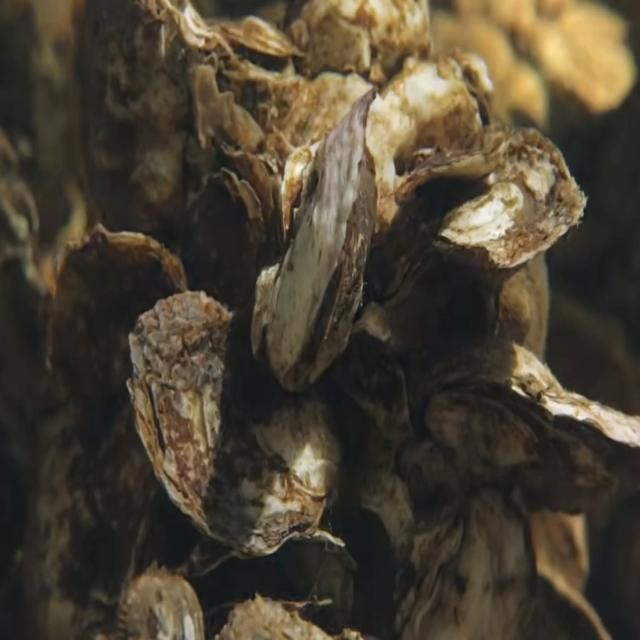Oyster-Closed: (42, 221, 193, 640), (380, 126, 588, 333), (410, 342, 640, 522), (248, 85, 380, 394), (389, 485, 541, 640)
Oyster-Indeterminate: (126, 287, 347, 557), (86, 0, 226, 250), (185, 166, 266, 308)
Oyster-Open: (180, 528, 347, 616)
